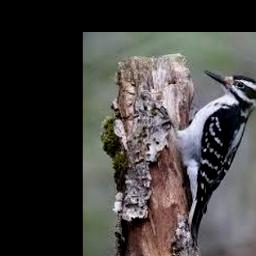Woodpecker: (175, 70, 256, 243)
